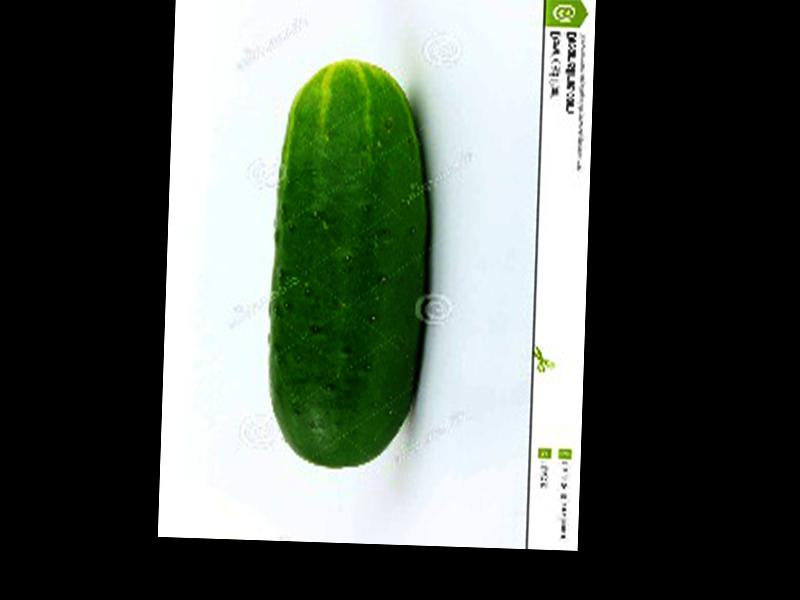Cucumber: (267, 59, 434, 471)
